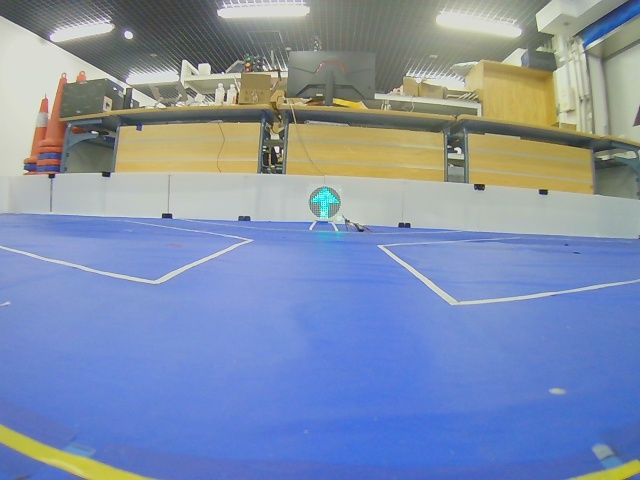straight_green: (309, 187, 341, 220)
